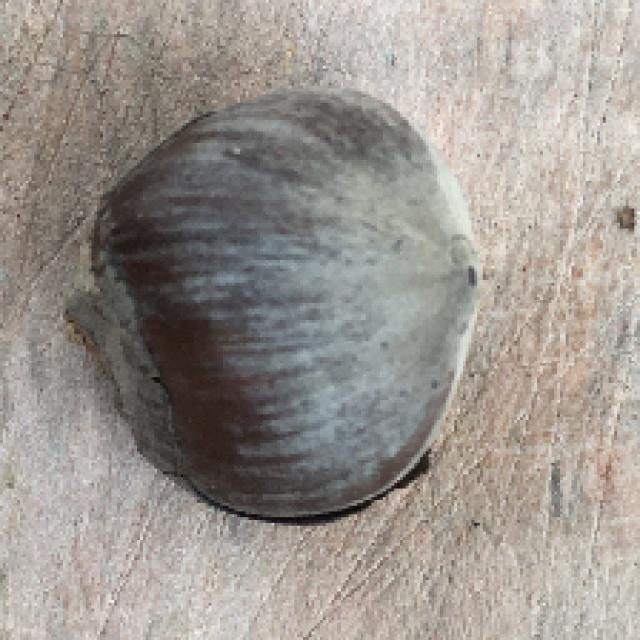damagedHazelnut: (75, 86, 493, 526)
